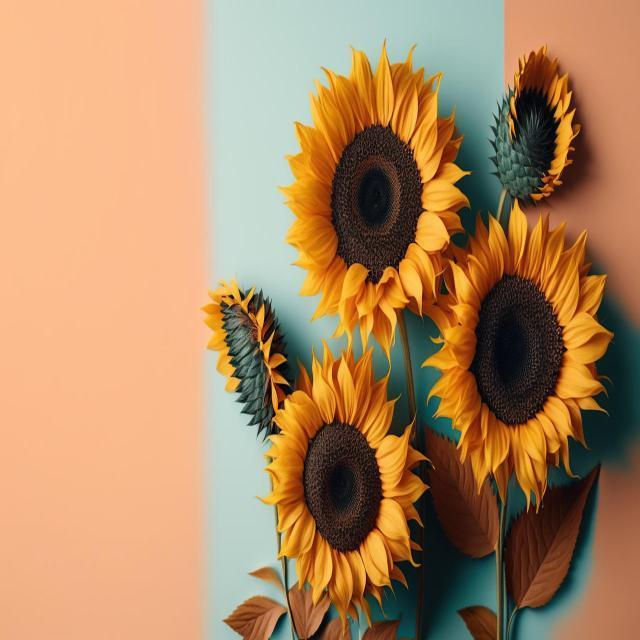sunflower: (277, 37, 472, 360), (421, 198, 614, 514), (256, 335, 434, 633), (200, 273, 290, 440), (508, 44, 581, 198)
